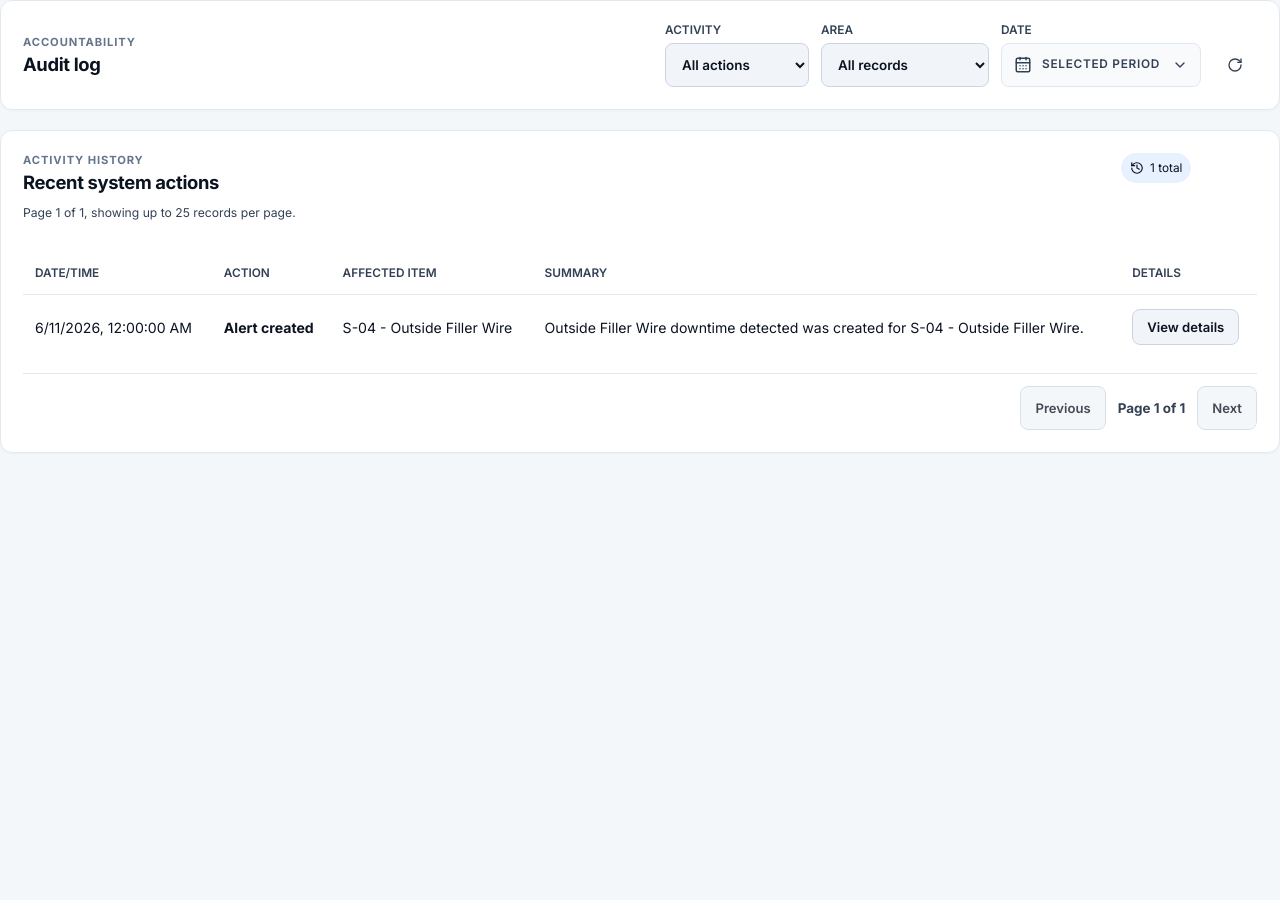
Test: AuditSection › uses a simplified table and shows readable details in a modal
Expected: the column heading "Summary" is shown, [533, 252, 1120, 295]
Expected: the column heading "Who did it" is not shown
What coordinates should you click on to do the following:
click the button "View details"
I would click on:
 (1186, 327)
Its box is [1132, 309, 1239, 345].
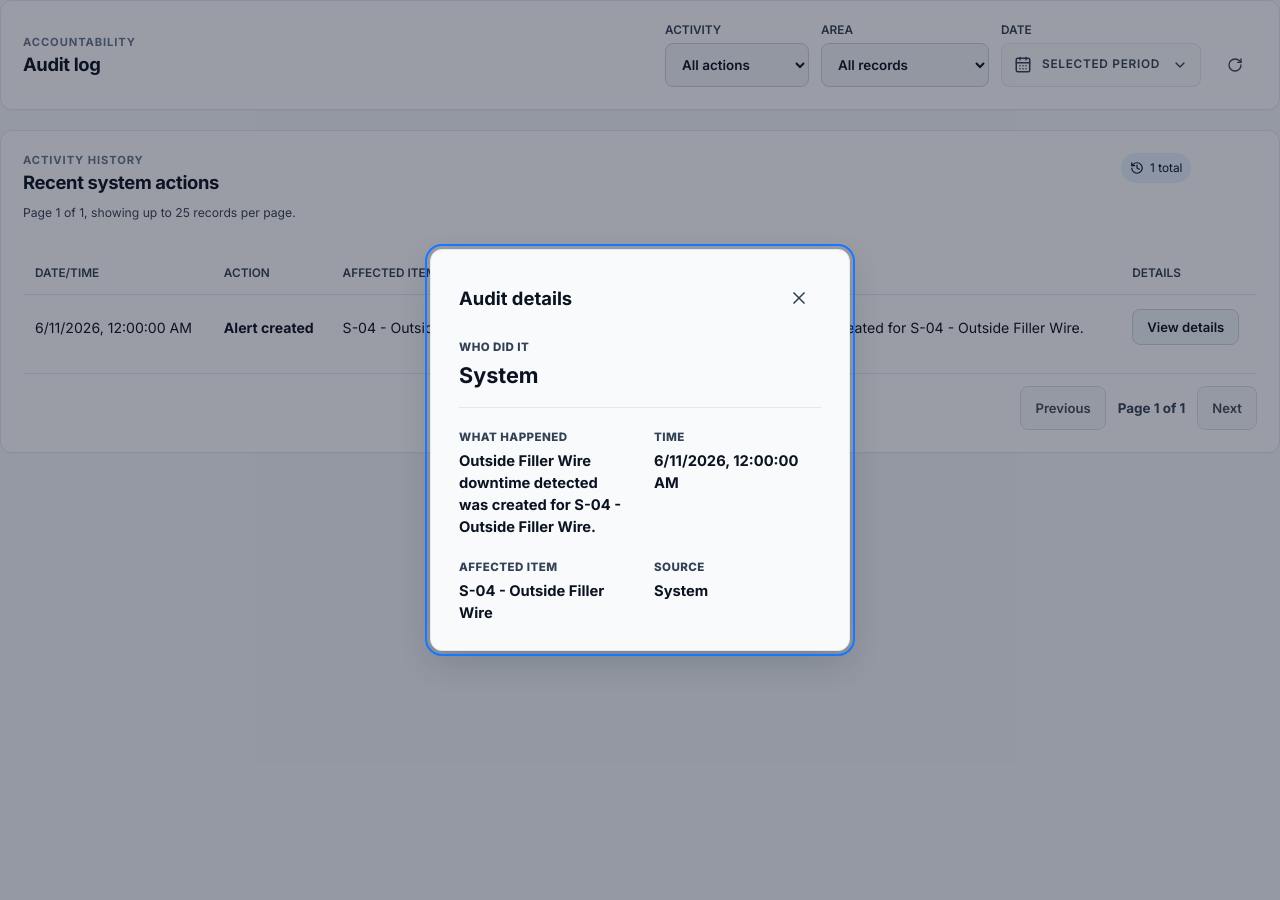
Now the text "What happened" is shown, box [459, 430, 568, 444]
Now the text "Outside Filler Wire downtime detected was created" is shown, box [459, 452, 621, 536]
Now the text "Who did it" is shown, box [459, 340, 529, 354]
What coordinates should you click on to do the following:
click the button named "close audit details"
I would click on:
 (799, 298)
Its box is [777, 276, 821, 320].
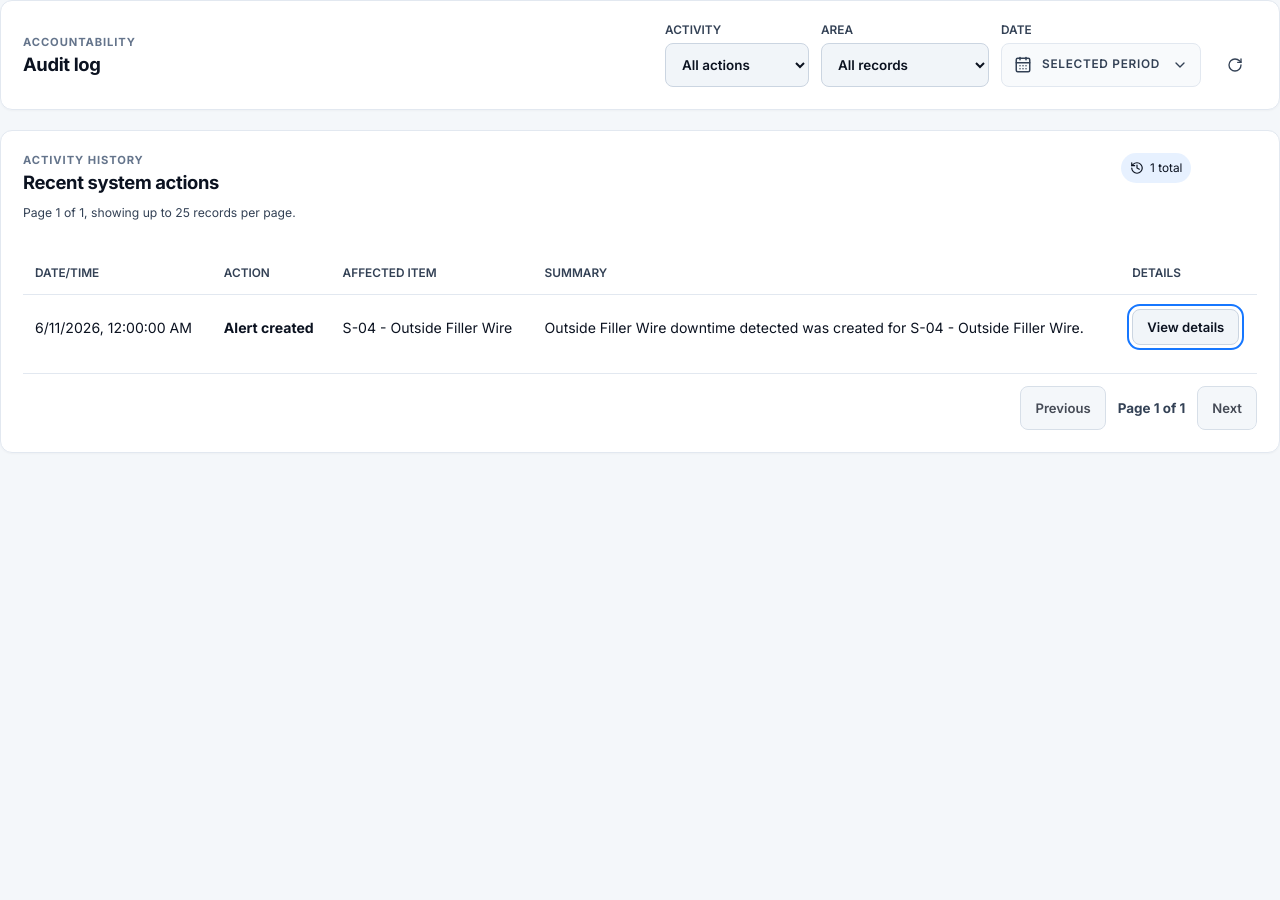
Now the heading "Audit details" is gone
